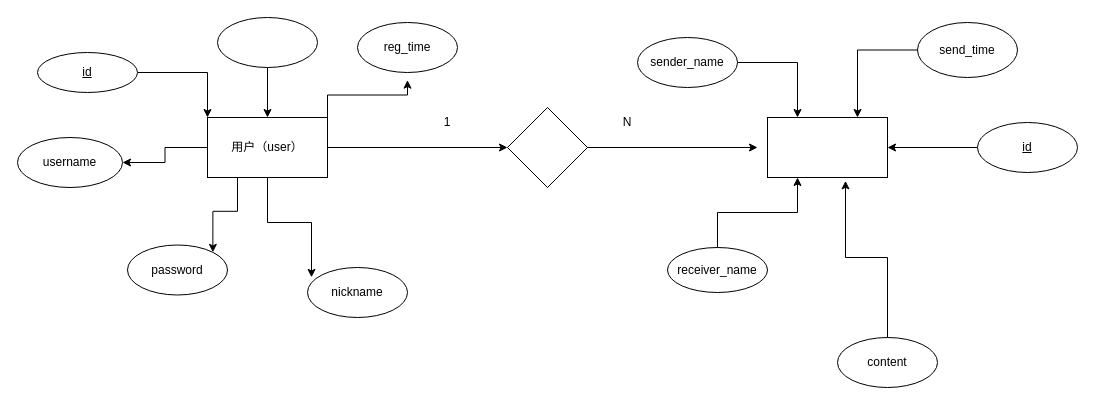
Some shapes in this 1095 by 405 pixel diagram are drawn without their labels. The box of each missing label's shape, as (x1, y1, x2, y2) in pixels:
avatar: (216, 16, 318, 68)
发送: (506, 106, 588, 188)
聊天记录(ChatLog): (766, 116, 888, 178)
